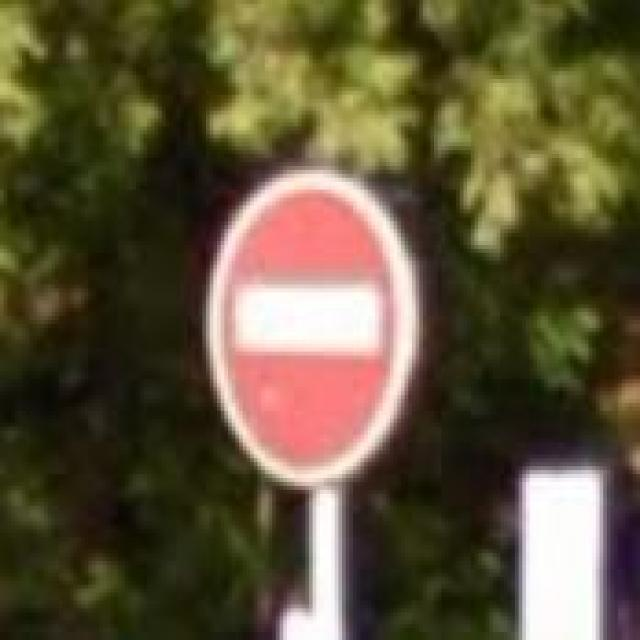traffic_sign: (202, 170, 423, 490)
